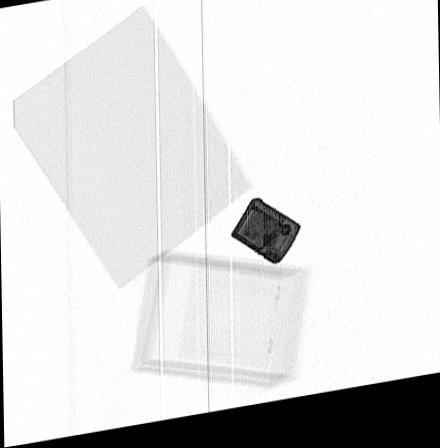Lighter: (230, 205, 300, 273)
